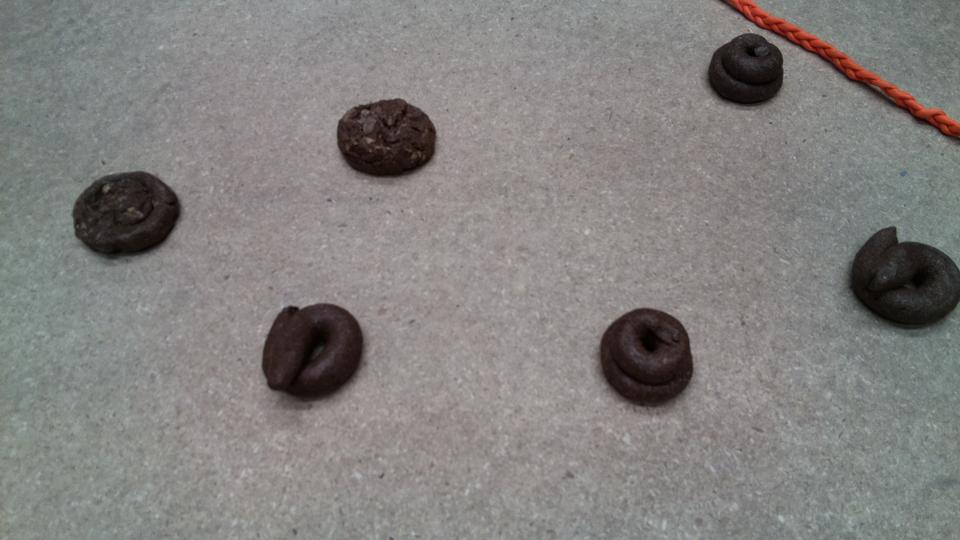poop: (846, 223, 958, 331), (259, 300, 367, 403), (597, 306, 700, 407), (71, 167, 183, 258), (334, 94, 441, 177), (705, 31, 790, 111)
rope: (728, 1, 959, 135)
